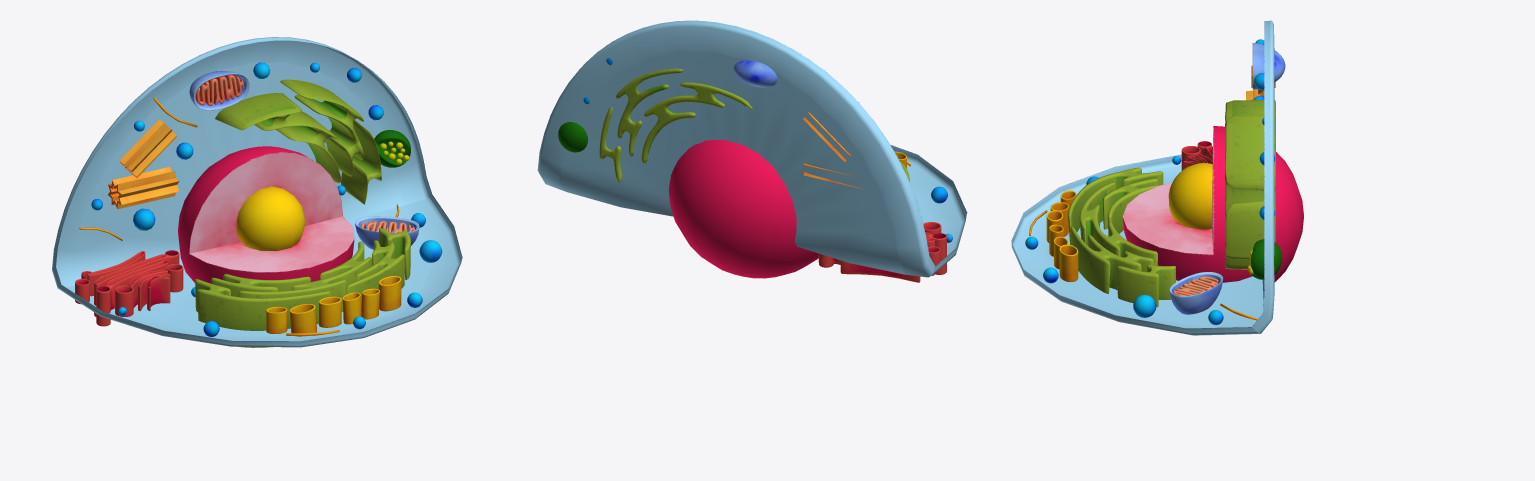
File: Celula_Animal 1.fbx
3 views of the same model, side by side, from view 1: azimuth 30°, elevation 25°; view 2: azimuth 150°, elevation 25°; view 3: azimuth 270°, elevation 25° (orthographic). The views are drawn at different scales.
Parts seen in each view (by area): view 1: Citoplasma.001, Reticulo_Endoplasmatico, Nucleo.001, Aparato_Golgi.001, Reticulo_Endoplasmatico_Liso, Nucleolo.001, Centrosoma, Ribosomas, Mitocondria_1.001, Mitocondria_2.001, Lisosoma, Microtubulos; view 2: Citoplasma.001, Nucleo.001, Reticulo_Endoplasmatico, Aparato_Golgi.001, Mitocondria_1.001, Lisosoma, Centrosoma; view 3: Reticulo_Endoplasmatico, Citoplasma.001, Nucleo.001, Nucleolo.001, Reticulo_Endoplasmatico_Liso, Mitocondria_2.001, Ribosomas, Lisosoma, Mitocondria_1.001, Aparato_Golgi.001.
Boxes of the visible parts, x1=… form: Citoplasma.001: x1=52, y1=37, x2=462, y2=347; Reticulo_Endoplasmatico: x1=195, y1=79, x2=410, y2=347; Nucleo.001: x1=178, y1=146, x2=354, y2=283; Aparato_Golgi.001: x1=75, y1=250, x2=183, y2=326; Reticulo_Endoplasmatico_Liso: x1=266, y1=276, x2=401, y2=336; Nucleolo.001: x1=236, y1=186, x2=305, y2=250; Centrosoma: x1=108, y1=119, x2=179, y2=209; Ribosomas: x1=91, y1=62, x2=442, y2=336; Mitocondria_1.001: x1=189, y1=71, x2=249, y2=110; Mitocondria_2.001: x1=355, y1=216, x2=419, y2=249; Lisosoma: x1=374, y1=130, x2=410, y2=167; Microtubulos: x1=79, y1=97, x2=399, y2=335; Citoplasma.001: x1=537, y1=20, x2=967, y2=277; Nucleo.001: x1=668, y1=140, x2=818, y2=278; Reticulo_Endoplasmatico: x1=599, y1=68, x2=909, y2=182; Aparato_Golgi.001: x1=818, y1=222, x2=946, y2=282; Mitocondria_1.001: x1=733, y1=60, x2=777, y2=87; Lisosoma: x1=558, y1=122, x2=587, y2=152; Centrosoma: x1=803, y1=112, x2=863, y2=189; Reticulo_Endoplasmatico: x1=1068, y1=100, x2=1275, y2=307; Citoplasma.001: x1=1011, y1=20, x2=1274, y2=335; Nucleo.001: x1=1122, y1=126, x2=1303, y2=282; Nucleolo.001: x1=1168, y1=162, x2=1212, y2=229; Reticulo_Endoplasmatico_Liso: x1=1046, y1=190, x2=1078, y2=282; Mitocondria_2.001: x1=1169, y1=272, x2=1223, y2=314; Ribosomas: x1=1025, y1=39, x2=1275, y2=325; Lisosoma: x1=1247, y1=239, x2=1282, y2=279; Mitocondria_1.001: x1=1252, y1=43, x2=1285, y2=89; Aparato_Golgi.001: x1=1181, y1=141, x2=1212, y2=170.
Size of the model in its own units: 3.18 by 3.21 by 3.65.
1 material, 1 textured.
